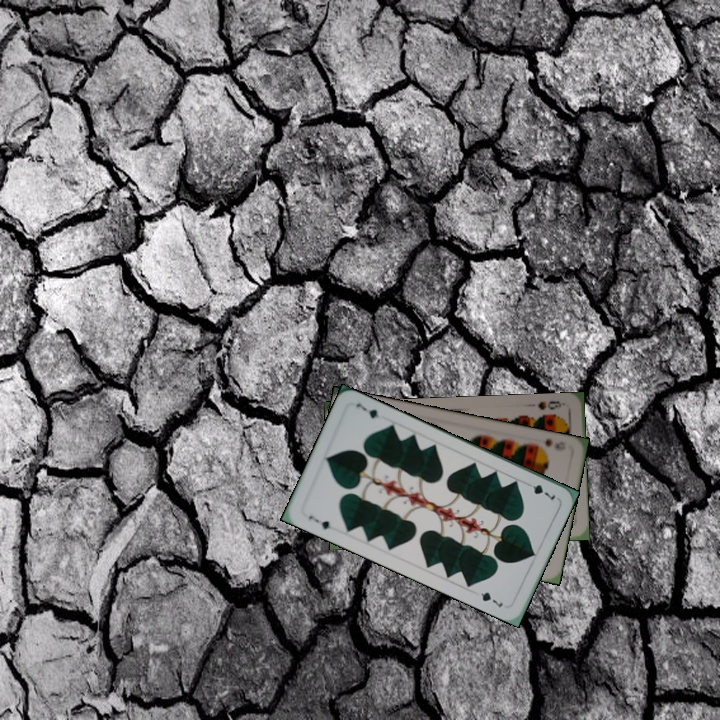G7: (521, 479, 558, 502), (304, 512, 333, 532)
S8: (534, 397, 567, 412)
S9: (530, 434, 555, 452)
